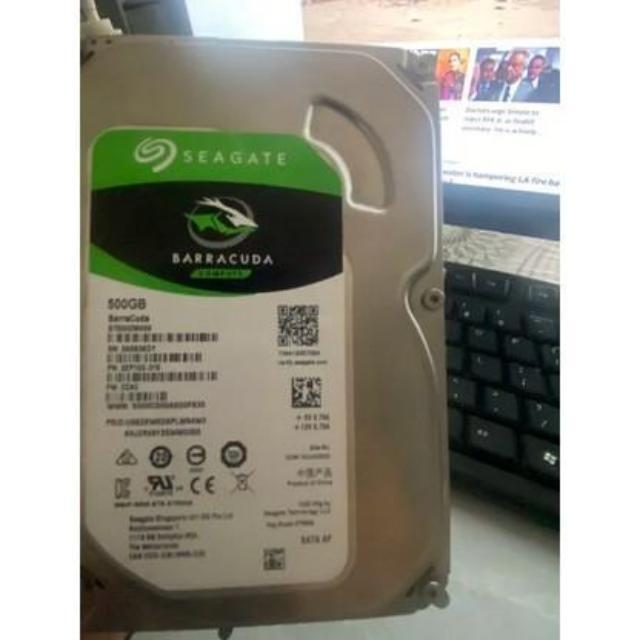DISK: (72, 20, 460, 626)
